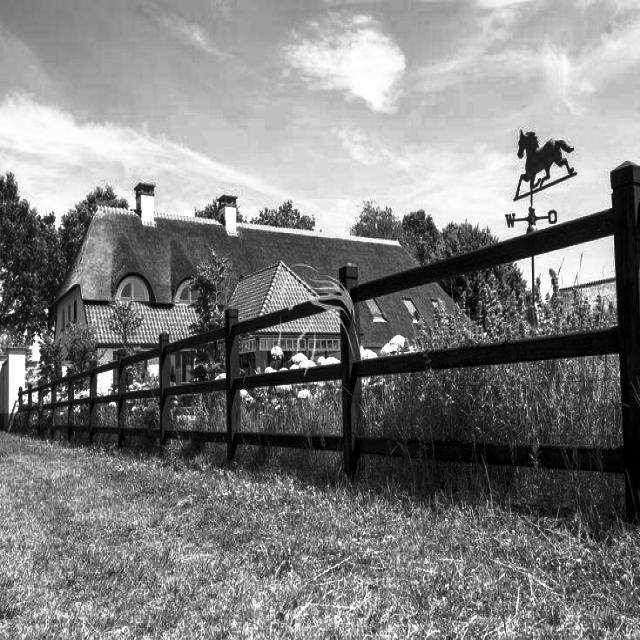fences: (10, 292, 640, 421)
